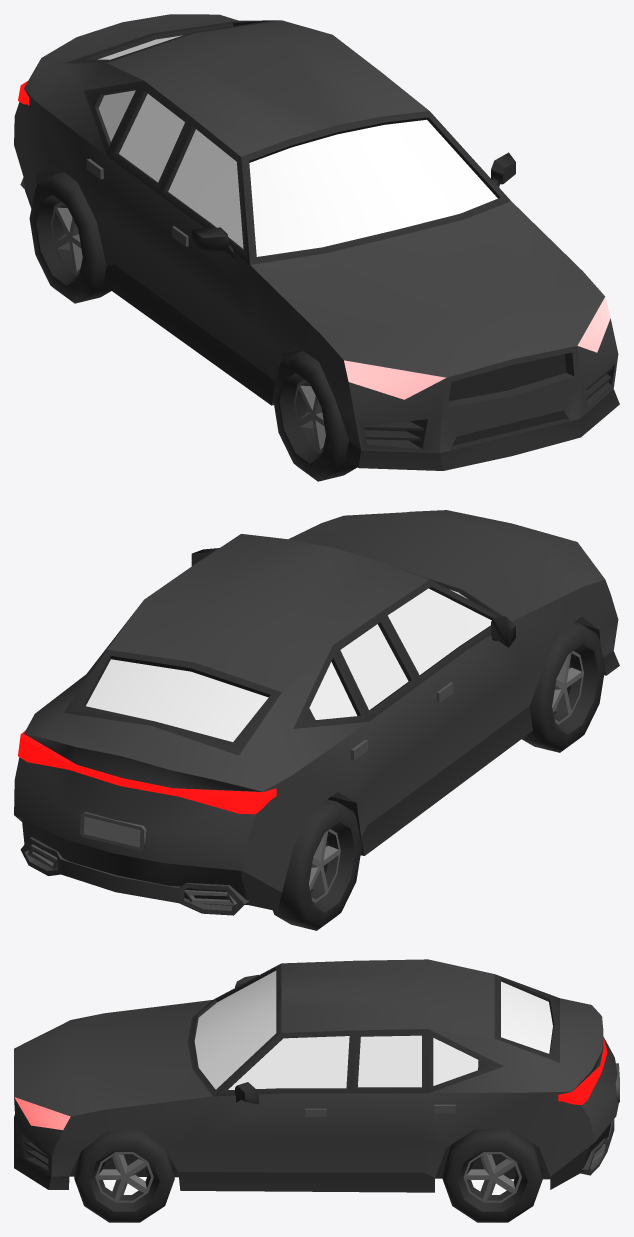
The model's file is car_cube074.glb.
The picture shows the model from 3 angles, top to bottom: view 1: azimuth 30°, elevation 25°; view 2: azimuth 150°, elevation 25°; view 3: azimuth 270°, elevation 25°; orthographic projection. The views are drawn at different scales.
Visible parts, largest first — view 1: Cube.074, Cylinder.071, Cylinder.069, Cube.075, Cube.157; view 2: Cube.074, Cylinder.071, Cylinder.069, Cube.155, Cube.152, Cube.140, Cube.149, Cube.075; view 3: Cube.074, Cylinder.071, Cylinder.069, Cube.152, Cube.075, Cube.155, Cube.100.
Part boxes in pixels (<box>): Cube.074: <box>14,14,619,470</box>; Cylinder.071: <box>29,172,111,303</box>; Cylinder.069: <box>272,351,357,481</box>; Cube.075: <box>191,152,515,261</box>; Cube.157: <box>364,374,611,440</box>; Cube.074: <box>14,510,619,910</box>; Cylinder.071: <box>272,799,361,930</box>; Cylinder.069: <box>522,622,605,752</box>; Cube.155: <box>20,837,249,915</box>; Cube.152: <box>18,730,276,814</box>; Cube.140: <box>80,811,146,851</box>; Cube.149: <box>27,844,236,905</box>; Cube.075: <box>191,548,515,647</box>; Cube.074: <box>14,959,618,1192</box>; Cylinder.071: <box>442,1129,542,1222</box>; Cylinder.069: <box>74,1131,174,1222</box>; Cube.152: <box>558,1036,607,1104</box>; Cube.075: <box>235,974,258,1104</box>; Cube.155: <box>580,1119,614,1175</box>; Cube.100: <box>305,1104,455,1116</box>.
Bounding box in the file's own units: 2.35 × 1.74 × 5.14.
Materials: 3 (3 with a texture image).
